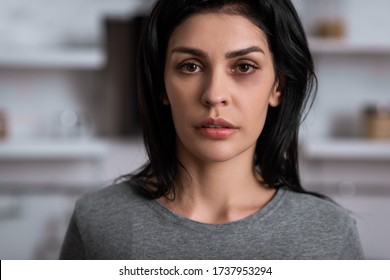NoMask: (168, 41, 267, 163)
